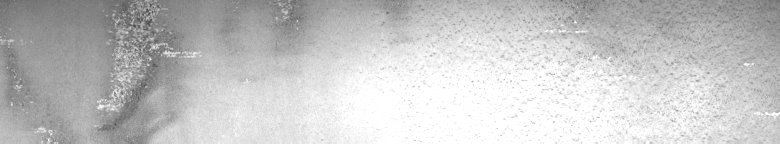hc: (4, 4, 202, 136)
